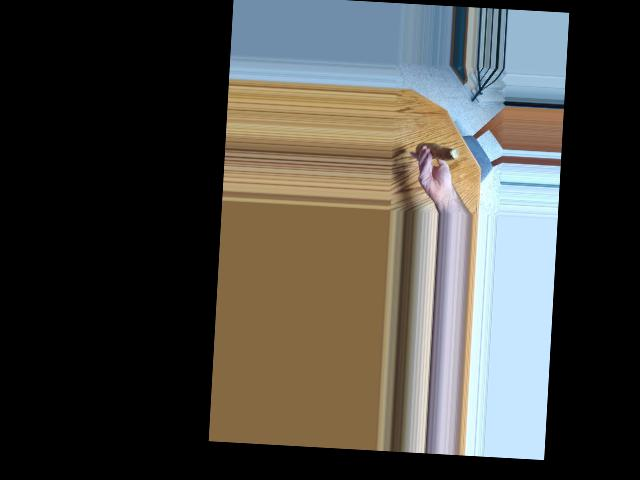sweet_potato: (420, 140, 458, 165)
